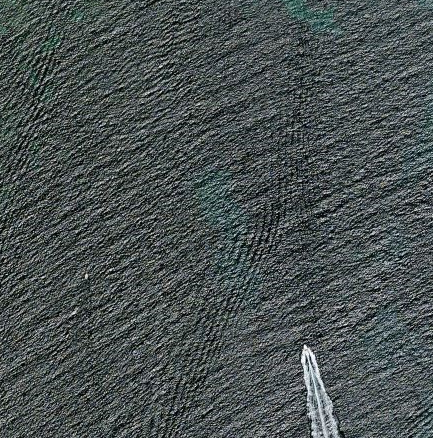ship: (298, 343, 314, 359)
